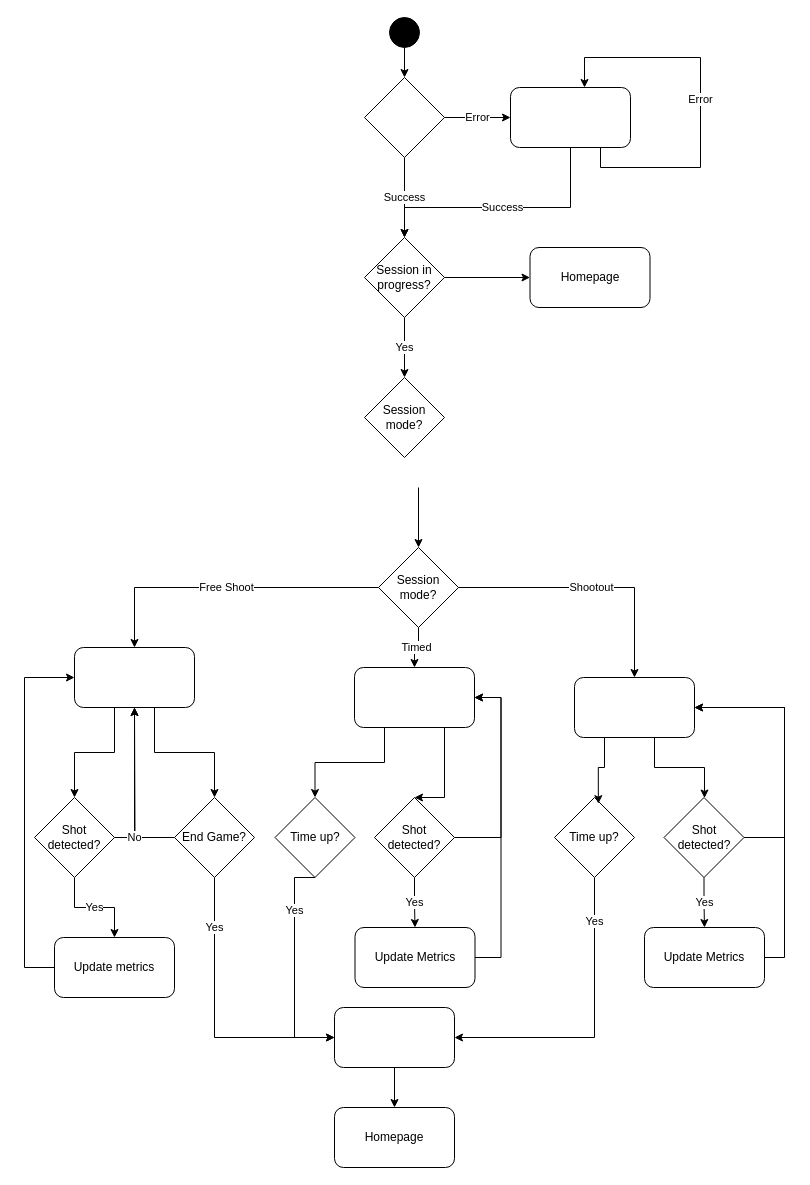
Some shapes in this 810 by 1185 pixel diagram are drawn without their labels. The centre of each missing label's shape, as x and y in pixels:
"Connect Device?" goes at point (404, 117).
"Display clock and score" goes at point (634, 707).
"Display shot counter" goes at point (414, 697).
"Display status of last 5 shots, percentage, and clock" goes at point (134, 677).
"Sync data with cloud" goes at point (394, 1037).
"Try Again" goes at point (570, 117).
